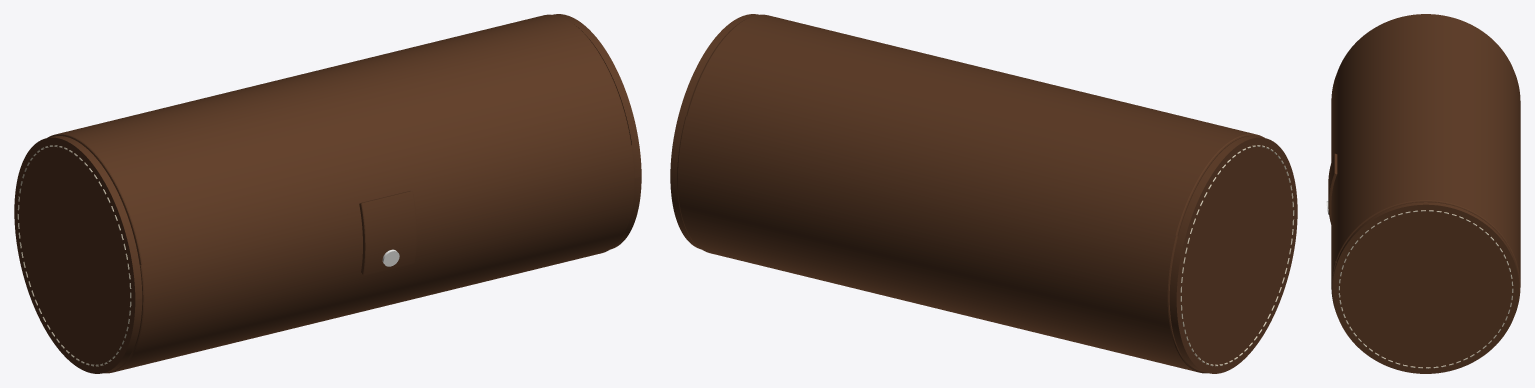
File: watch-roll.glb
3 renders of one model, left to right at view 1: azimuth 30°, elevation 25°; view 2: azimuth 150°, elevation 25°; view 3: azimuth 270°, elevation 25°, orthographic. The views are drawn at different scales.
Parts seen in each view (by area): view 1: Case lid, Case body, Case body stitching; view 2: Case body, Case lid, Case body stitching; view 3: Case lid, Case body, Case body stitching.
Boxes of the visible parts, left/top/right/bottom form: Case lid: left=47, top=14, right=631, bottom=275; Case body: left=14, top=14, right=641, bottom=373; Case body stitching: left=17, top=145, right=131, bottom=366; Case body: left=670, top=14, right=1297, bottom=373; Case lid: left=686, top=14, right=1264, bottom=238; Case body stitching: left=1180, top=145, right=1294, bottom=366; Case lid: left=1328, top=16, right=1508, bottom=262; Case body: left=1331, top=14, right=1520, bottom=373; Case body stitching: left=1338, top=210, right=1513, bottom=368.
Size of the model in its own units: 0.2326 by 0.0972 by 0.0997.
